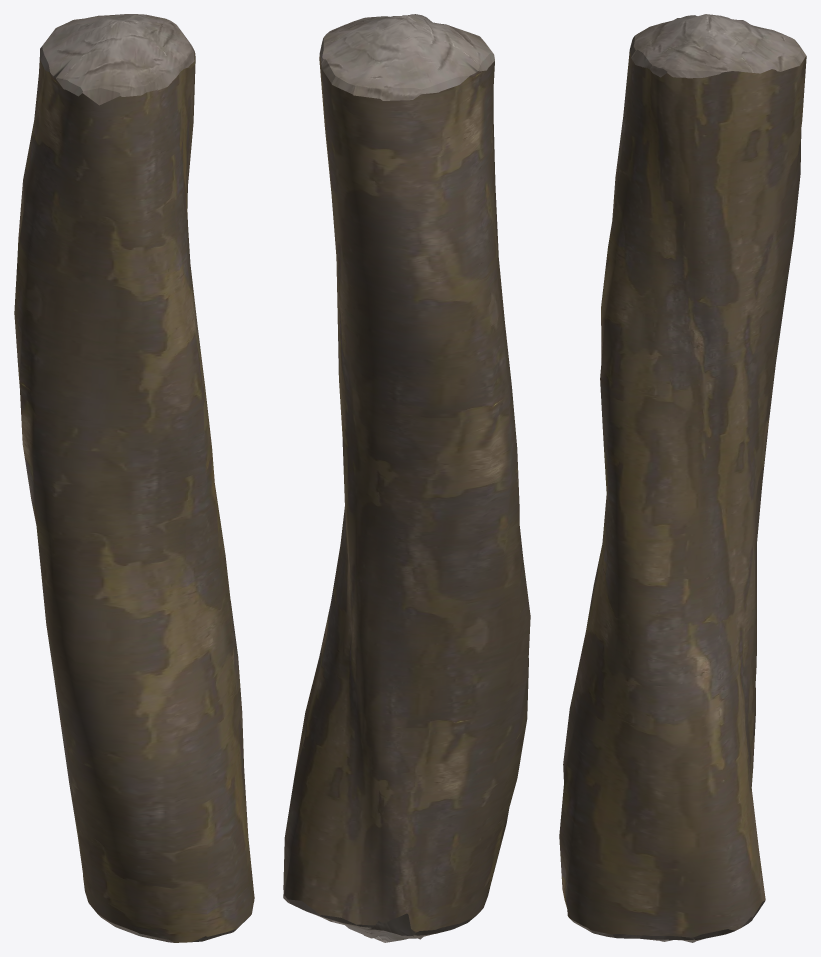
3 views of the same model, side by side, from view 1: azimuth 30°, elevation 25°; view 2: azimuth 150°, elevation 25°; view 3: azimuth 270°, elevation 25° (orthographic). The views are drawn at different scales.
Visible parts, largest first — view 1: SM_Yew_02_half_mid_LOD0; view 2: SM_Yew_02_half_mid_LOD0; view 3: SM_Yew_02_half_mid_LOD0.
Boxes of the visible parts, x1,y1,x2,y2 form: SM_Yew_02_half_mid_LOD0: (14, 14, 254, 942); SM_Yew_02_half_mid_LOD0: (283, 14, 530, 942); SM_Yew_02_half_mid_LOD0: (559, 14, 806, 942).
Bounding box in the file's own units: 1.07 × 4.52 × 1.11.
Materials: 1 (1 with a texture image).
